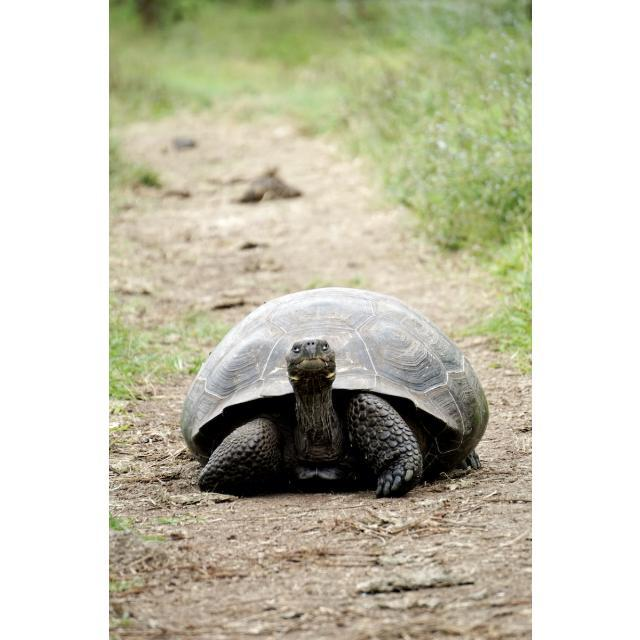turtle: (177, 286, 491, 502)
